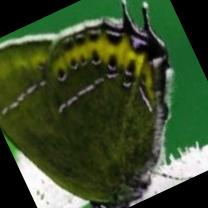butterfly: (0, 0, 170, 208)
